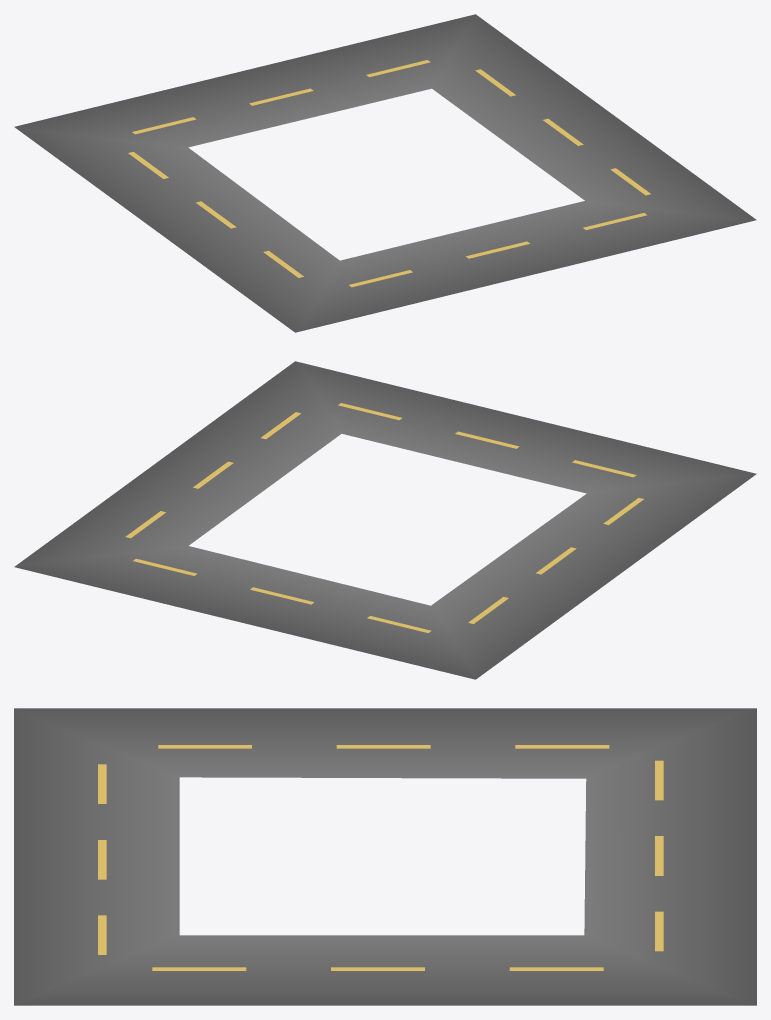
The model's file is QuadradoExterior.fbx.
3 renders of one model, top to bottom at view 1: azimuth 30°, elevation 25°; view 2: azimuth 150°, elevation 25°; view 3: azimuth 270°, elevation 25°, orthographic. The views are drawn at different scales.
Parts seen in each view (by area): view 1: Plane.011; view 2: Plane.011; view 3: Plane.011.
Boxes of the visible parts, box(x1,y1,x2,y2) form: Plane.011: box(14, 14, 756, 332); Plane.011: box(14, 361, 756, 679); Plane.011: box(14, 708, 756, 1005).
Bounding box in the file's own units: 17150 × 19.47 × 18095.
